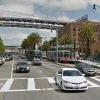Car: (50, 61, 91, 94)
